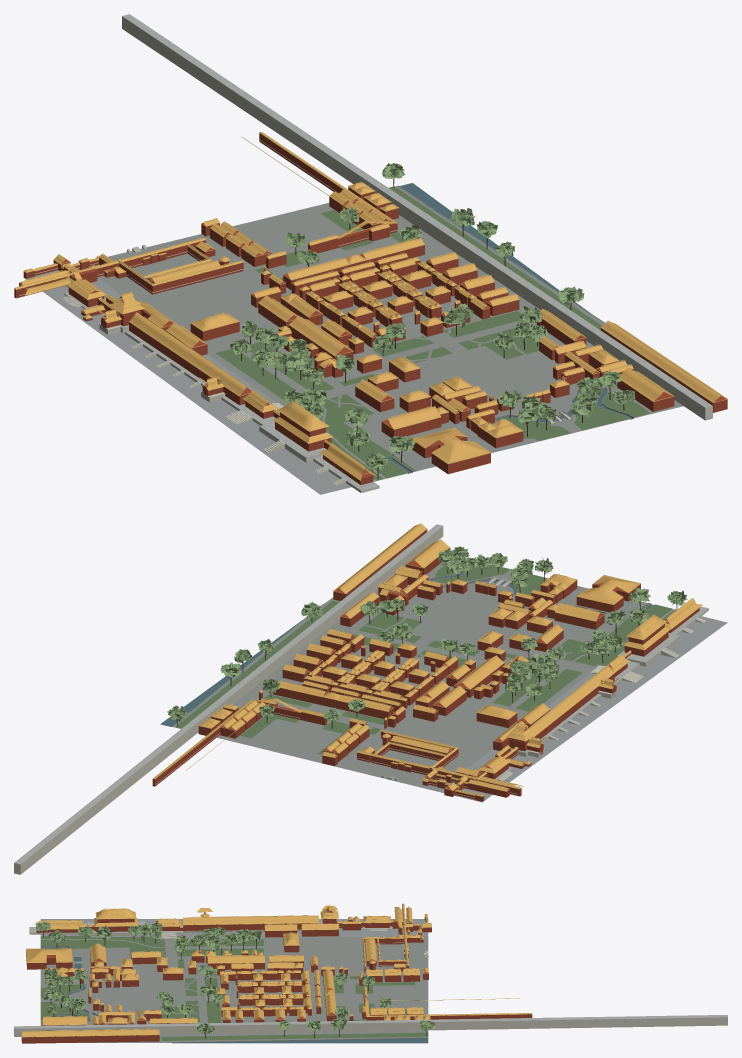
Rendered from east-medium.glb.
3 renders of one model, top to bottom at view 1: azimuth 30°, elevation 25°; view 2: azimuth 150°, elevation 25°; view 3: azimuth 270°, elevation 25°, orthographic. The views are drawn at different scales.
Visible parts, largest first — view 1: east_medium_Roof_Glazed_Ochre, east_medium_Vermilion, east_medium_Courtyard_Stone, east_medium_Foliage_Leaves, east_medium_Garden_Green, east_medium_Roof_Ridge_Highlight, east_medium_Limestone, east_medium_Terrace_Paving, east_medium_Courtyard_Cool, east_medium_Water_Jade; view 2: east_medium_Courtyard_Stone, east_medium_Roof_Glazed_Ochre, east_medium_Vermilion, east_medium_Foliage_Leaves, east_medium_Roof_Ridge_Highlight, east_medium_Garden_Green, east_medium_Limestone, east_medium_Terrace_Paving, east_medium_Courtyard_Cool, east_medium_Water_Jade; view 3: east_medium_Courtyard_Stone, east_medium_Roof_Glazed_Ochre, east_medium_Vermilion, east_medium_Garden_Green, east_medium_Limestone, east_medium_Roof_Ridge_Highlight, east_medium_Foliage_Leaves, east_medium_Terrace_Paving, east_medium_Courtyard_Cool, east_medium_Water_Jade, east_medium_Timber_Shadow.
Part boxes in pixels (x1,y1,x2,y2): east_medium_Roof_Glazed_Ochre: (15, 132, 727, 480); east_medium_Vermilion: (14, 133, 727, 484); east_medium_Courtyard_Stone: (69, 16, 709, 485); east_medium_Foliage_Leaves: (230, 163, 635, 471); east_medium_Garden_Green: (215, 186, 649, 480); east_medium_Roof_Ridge_Highlight: (14, 132, 727, 480); east_medium_Limestone: (19, 16, 712, 492); east_medium_Terrace_Paving: (64, 14, 712, 490); east_medium_Courtyard_Cool: (23, 269, 385, 494); east_medium_Water_Jade: (387, 183, 633, 473); east_medium_Courtyard_Stone: (23, 525, 703, 857); east_medium_Roof_Glazed_Ochre: (153, 523, 702, 796); east_medium_Vermilion: (152, 529, 699, 801); east_medium_Foliage_Leaves: (167, 546, 687, 722); east_medium_Roof_Ridge_Highlight: (153, 527, 702, 796); east_medium_Garden_Green: (175, 559, 676, 754); east_medium_Limestone: (14, 526, 708, 874); east_medium_Terrace_Paving: (14, 524, 708, 864); east_medium_Courtyard_Cool: (438, 609, 727, 802); east_medium_Water_Jade: (160, 571, 653, 726); east_medium_Courtyard_Stone: (16, 923, 723, 1042); east_medium_Roof_Glazed_Ochre: (21, 903, 532, 1036); east_medium_Vermilion: (21, 909, 532, 1043); east_medium_Garden_Green: (40, 935, 428, 1040); east_medium_Limestone: (14, 925, 727, 1036); east_medium_Roof_Ridge_Highlight: (21, 904, 532, 1037); east_medium_Foliage_Leaves: (35, 921, 435, 1034); east_medium_Terrace_Paving: (14, 920, 727, 1028); east_medium_Courtyard_Cool: (40, 919, 428, 939); east_medium_Water_Jade: (40, 947, 428, 1043); east_medium_Timber_Shadow: (43, 930, 427, 1038).
Size of the model in its own units: 3.46 by 0.2841 by 7.79.
